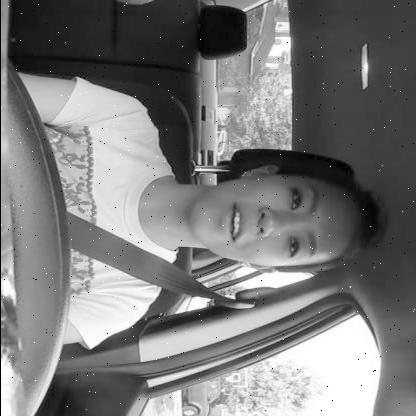seatbelt: (0, 130, 385, 321)
